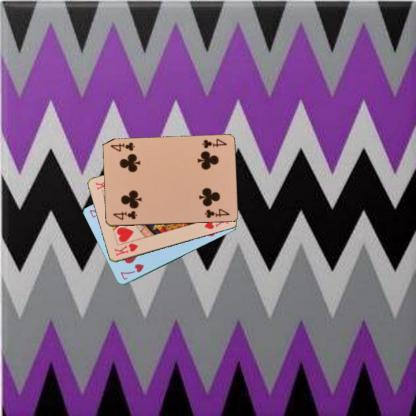4c: (199, 136, 228, 150), (110, 209, 138, 221)
7h: (118, 262, 145, 282)
Kh: (112, 241, 140, 257)
